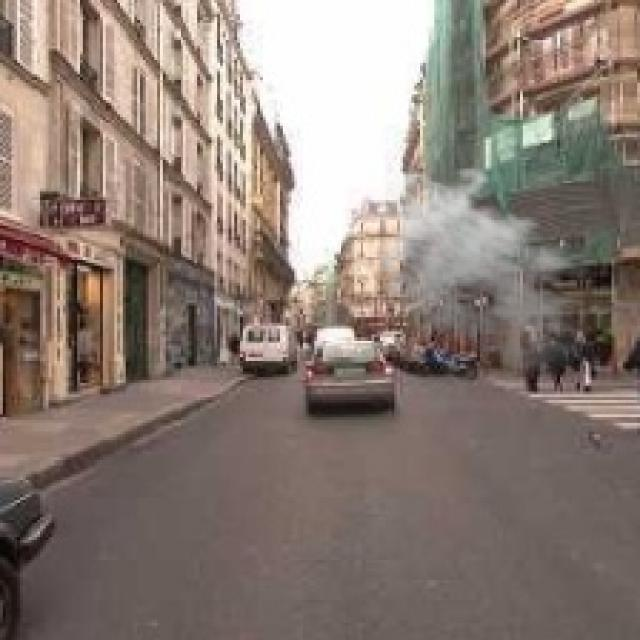smoke: (368, 166, 606, 374)
